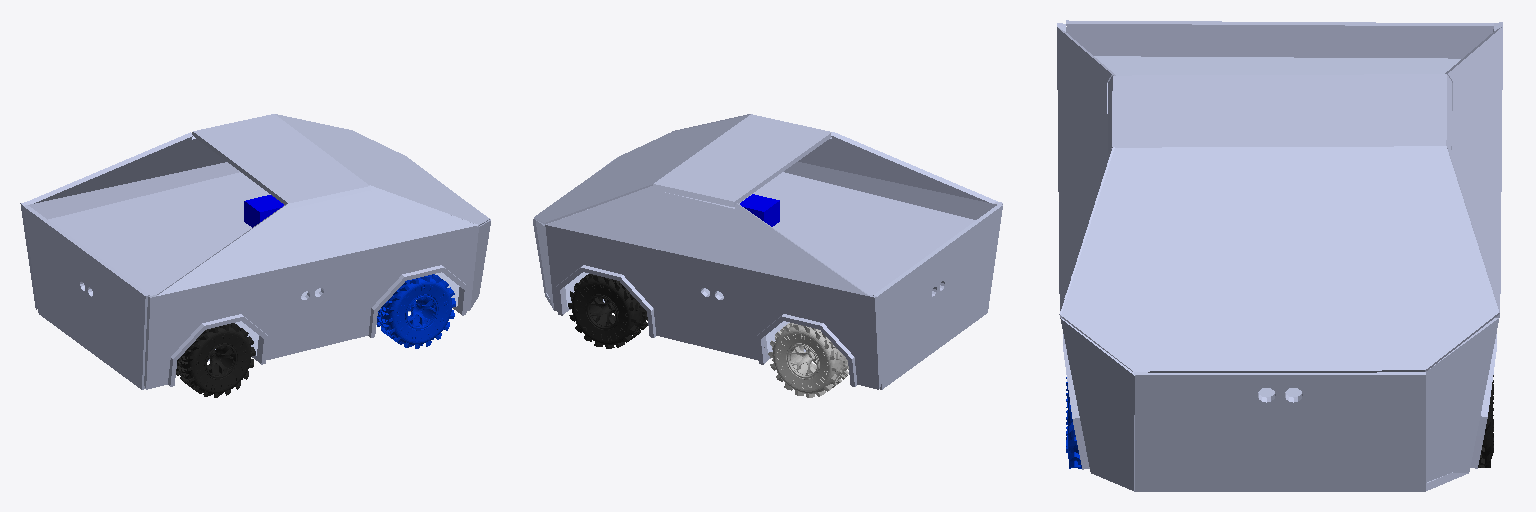
robot.urdf — cyber_robt:
<?xml version="1.0" ?>

<robot name="cyber_robt">
  <link name="base_link">
    <inertial>
      <origin rpy="0 0 0" xyz="-0.0091611 0.00059417 0.098166"/>
      <mass value="4"/>
      <inertia ixx="0.052616" ixy="0.00012866" ixz="0.00087061" iyy="0.15378" iyz="6.3384E-05" izz="0.19568"/>
    </inertial>
    <visual>
      <origin rpy="0 0 0" xyz="0 0 0"/>
      <geometry>
        <mesh filename="package://cyber_robt/meshes/base_link.STL"/>
      </geometry>
      <material name="">
        <color rgba="0.79216 0.81961 0.93333 1"/>
      </material>
    </visual>
    <collision>
      <origin rpy="0 0 0" xyz="0 0 0"/>
      <geometry>
        <!-- <mesh filename="package://cyber_robt/meshes/base_link.STL"/> -->
        <geometry>
          <box size="0.1 0.1 0.1"/>
        </geometry>
      </geometry>
    </collision>
  </link>
  <link name="W_B_L">
    <inertial>
      <origin rpy="0 0 0" xyz="1.04621901142465E-08 7.33407984343515E-09 0.00451444303412896"/>
      <mass value="0.110835075707755"/>
      <inertia ixx="0.000173950330336761" ixy="-9.00569003291215E-11" ixz="3.09004583221448E-11" iyy="0.000173950344543359" iyz="1.81423573220387E-11" izz="0.000277761447470617"/>
    </inertial>
    <visual>
      <origin rpy="0 0 0" xyz="0 0 0"/>
      <geometry>
        <mesh filename="package://cyber_robt/meshes/W_B_L.STL"/>
      </geometry>
      <material name="">
        <color rgba="0.752941176470588 0.752941176470588 0.752941176470588 1"/>
      </material>
    </visual>
    <collision>
      <origin rpy="0 0 0" xyz="0 0 0"/>
      <geometry>
        <!-- <mesh filename="package://cyber_robt/meshes/W_B_L.STL"/> -->
        <box size="0.05 0.05 0.05"/>
      </geometry>
    </collision>
  </link>
  <joint name="W_B_L_joint" type="continuous">
    <origin rpy="-1.5708 0 0" xyz="-0.19374 0.16464 0.01975"/>
    <parent link="base_link"/>
    <child link="W_B_L"/>
    <axis xyz="0 0 1"/>
    <limit effort="10" velocity="10"/>
    <dynamics damping="0.1" friction="0.1"/>
    <mimic joint="W_F_L_joint"/>
  </joint>
  <link name="W_F_L">
    <inertial>
      <origin rpy="0 0 0" xyz="1.04755673718815E-08 7.32929028579576E-09 0.0045144429988957"/>
      <mass value="0.110835075033681"/>
      <inertia ixx="0.000173950330312339" ixy="-9.00559008468017E-11" ixz="3.08963073222672E-11" iyy="0.000173950344524454" iyz="1.8142724600611E-11" izz="0.000277761447439209"/>
    </inertial>
    <visual>
      <origin rpy="0 0 0" xyz="0 0 0"/>
      <geometry>
        <mesh filename="package://cyber_robt/meshes/W_F_L.STL"/>
      </geometry>
      <material name="">
        <color rgba="0.164705882352941 0.164705882352941 0.164705882352941 1"/>
      </material>
    </visual>
    <collision>
      <origin rpy="0 0 0" xyz="0 0 0"/>
      <geometry>
        <box size="0.05 0.05 0.05"/>
        <!-- <mesh filename="package://cyber_robt/meshes/W_F_L.STL"/> -->
      </geometry>
    </collision>
  </link>
  <joint name="W_F_L_joint" type="continuous">
    <origin rpy="-1.5708 0 0" xyz="0.17551 0.16464 0.01975"/>
    <parent link="base_link"/>
    <child link="W_F_L"/>
    <axis xyz="0 0 1"/>
    <limit effort="10" velocity="10"/>
    <dynamics damping="0.1" friction="0.1"/>
  </joint>
  <link name="W_B_R">
    <inertial>
      <origin rpy="0 0 0" xyz="-1.04530648581402E-08 7.33744742742459E-09 -0.00451444301990683"/>
      <mass value="0.11083507549492"/>
      <inertia ixx="0.000173950330329626" ixy="9.00577592178687E-11" ixz="3.09042715809237E-11" iyy="0.000173950344535046" iyz="-1.81402735629844E-11" izz="0.000277761447462463"/>
    </inertial>
    <visual>
      <origin rpy="0 0 0" xyz="0 0 0"/>
      <geometry>
        <mesh filename="package://cyber_robt/meshes/W_B_R.STL"/>
      </geometry>
      <material name="">
        <color rgba="0.164705882352941 0.164705882352941 0.164705882352941 1"/>
      </material>
    </visual>
    <collision>
      <origin rpy="0 0 0" xyz="0 0 0"/>
      <geometry>
        <box size="0.05 0.05 0.05"/>
        <!-- <mesh filename="package://cyber_robt/meshes/W_B_R.STL"/> -->
      </geometry>
    </collision>
  </link>
  <joint name="W_B_R_joint" type="continuous">
    <origin rpy="-1.5708 0 0" xyz="-0.19374 -0.16473 0.01975"/>
    <parent link="base_link"/>
    <child link="W_B_R"/>
    <axis xyz="0 0 -1"/>
    <limit effort="10" velocity="10"/>
    <dynamics damping="0.1" friction="0.1"/>
    <mimic joint="W_F_R_joint"/>
  </joint>
  <link name="W_F_R">
    <inertial>
      <origin rpy="0 0 0" xyz="-1.04612485063438E-08 7.3332188099684E-09 -0.00451444303336418"/>
      <mass value="0.110835075714497"/>
      <inertia ixx="0.000173950330336794" ixy="9.00569289950247E-11" ixz="3.09003713566558E-11" iyy="0.000173950344543733" iyz="-1.81423558399572E-11" izz="0.000277761447470974"/>
    </inertial>
    <visual>
      <origin rpy="0 0 0" xyz="0 0 0"/>
      <geometry>
        <mesh filename="package://cyber_robt/meshes/W_F_R.STL"/>
      </geometry>
      <material name="">
        <color rgba="0.00784313725490196 0.23921568627451 0.823529411764706 1"/>
      </material>
    </visual>
    <collision>
      <origin rpy="0 0 0" xyz="0 0 0"/>
      <geometry> 
        <box size="0.05 0.05 0.05"/>
      
        <!-- <mesh filename="package://cyber_robt/meshes/W_F_R.STL"/> -->
      </geometry>
    </collision>
  </link>
  <joint name="W_F_R_joint" type="continuous">
    <origin rpy="-1.5708 0 0" xyz="0.17626 -0.16473 0.01975"/>
    <parent link="base_link"/>
    <child link="W_F_R"/>
    <axis xyz="0 0 -1"/>
    <limit effort="10" velocity="10"/>
    <dynamics damping="0.1" friction="0.1"/>
  </joint>
  <link name="Lidar">
    <inertial>
      <origin rpy="0 0 0" xyz="-0.0125525443278058 0.0352042399925181 1.38374507929195E-05"/>
      <mass value="0.0941041922779478"/>
      <inertia ixx="2.80065165934002E-05" ixy="-1.34915585630204E-06" ixz="-9.66826757177557E-07" iyy="6.943287134712E-05" iyz="1.57761616273888E-07" izz="4.42980194300437E-05"/>
    </inertial>
    <visual>
      <origin rpy="-1.57008 0 0" xyz="0 0 0"/>
      <geometry>
        <mesh filename="package://cyber_robt/meshes/Lidar.STL"/>
      </geometry>
      <material name="">
        <color rgba="0.752941176470588 0.752941176470588 0.752941176470588 1"/>
      </material>
    </visual>
    <collision>
      <origin rpy="-1.57008 0 0" xyz="0 0 0"/>
      <geometry>
        <box size="0.05 0.05 0.05"/>
        <!-- <mesh filename="package://cyber_robt/meshes/Lidar.STL"/> -->
      </geometry>
    </collision>
  </link>
  <joint name="Lidar_joint" type="fixed">
    <origin rpy="0 0 0" xyz="0.069913 -0.0039993 0.30878"/>
    <parent link="base_link"/>
    <child link="Lidar"/>
    <axis xyz="0.024581 -0.99967 -0.0069583"/>
  </joint>
  <link name="imu_link">
    <visual>
      <geometry>
        <box size="0.05 0.05 0.05"/>
      </geometry>
      <material name="blue">
        <color rgba="0 0 1 1"/>
      </material>
    </visual>
    <inertial>
      <mass value="0.01"/>
      <inertia ixx="0.00001" ixy="0.0" ixz="0.0" iyy="0.00001" iyz="0.0" izz="0.00001"/>
    </inertial>
  </link>
  <joint name="imu_joint" type="fixed">
    <parent link="base_link"/>
    <child link="imu_link"/>
    <origin rpy="0 0 0" xyz="0.0 0.0 0.15"/>
  </joint>
  <!-- <link
    name="U_L">
    <inertial>
      <origin
        xyz="-2.90104473364416E-05 1.03285550460686E-05 0.0015459169200831"
        rpy="0 0 0" />
      <mass
        value="0.0027914292843105" />
      <inertia
        ixx="9.5216483963157E-08"
        ixy="-1.74890226086194E-12"
        ixz="-9.87352819860933E-13"
        iyy="4.69037454882235E-07"
        iyz="-3.21316644683644E-11"
        izz="5.0499248445848E-07" />
    </inertial>
    <visual>
      <origin
        xyz="0 0 0"
        rpy="0 0 0" />
      <geometry>
        <mesh
          filename="package://cyber_robt/meshes/U_L.STL" />
      </geometry>
      <material
        name="">
        <color
          rgba="0.752941176470588 0.752941176470588 0.752941176470588 1" />
      </material>
    </visual>
    <collision>
      <origin
        xyz="0 0 0"
        rpy="0 0 0" />
      <geometry>
        <mesh
          filename="package://cyber_robt/meshes/U_L.STL" />
      </geometry>
    </collision>
  </link>
  <joint
    name="U_L_joint"
    type="fixed">
    <origin
      xyz="-0.027241 0.18412 0.1001"
      rpy="-1.5708 0 0" />
    <parent
      link="base_link" />
    <child
      link="U_L" />
    <axis
      xyz="0 0 0" />
  </joint>
  <link
    name="U_R">
    <inertial>
      <origin
        xyz="2.90104474093278E-05 3.11207215475395E-06 -0.00154594829482541"
        rpy="0 0 0" />
      <mass
        value="0.00279142928883128" />
      <inertia
        ixx="9.52164840205335E-08"
        ixy="1.74427793914189E-12"
        ixz="-9.95506738253083E-13"
        iyy="4.69038538712674E-07"
        iyz="1.99967094814099E-10"
        izz="5.04991401349245E-07" />
    </inertial>
    <visual>
      <origin
        xyz="0 0 0"
        rpy="0 0 0" />
      <geometry>
        <mesh
          filename="package://cyber_robt/meshes/U_R.STL" />
      </geometry>
      <material
        name="">
        <color
          rgba="0.752941176470588 0.752941176470588 0.752941176470588 1" />
      </material>
    </visual>
    <collision>
      <origin
        xyz="0 0 0"
        rpy="0 0 0" />
      <geometry>
        <mesh
          filename="package://cyber_robt/meshes/U_R.STL" />
      </geometry>
    </collision>
  </link>
  <joint
    name="U_R_joint"
    type="fixed">
    <origin
      xyz="-0.025809 -0.18431 0.10044"
      rpy="-1.5708 0 0" />
    <parent
      link="base_link" />
    <child
      link="U_R" />
    <axis
      xyz="0 0 0" />
  </joint>
  <link
    name="U_B">
    <inertial>
      <origin
        xyz="-0.00154517952788757 5.37308393633307E-05 -1.84585517455371E-05"
        rpy="0 0 0" />
      <mass
        value="0.00279142929729524" />
      <inertia
        ixx="5.0494597810526E-07"
        ixy="-9.90004835368537E-10"
        ixz="-2.84968225347825E-09"
        iyy="4.69058298264594E-07"
        iyz="-1.47154962142072E-09"
        izz="9.52421505751128E-08" />
    </inertial>
    <visual>
      <origin
        xyz="0 0 0"
        rpy="0 0 0" />
      <geometry>
        <mesh
          filename="package://cyber_robt/meshes/U_B.STL" />
      </geometry>
      <material
        name="">
        <color
          rgba="0.752941176470588 0.752941176470588 0.752941176470588 1" />
      </material>
    </visual>
    <collision>
      <origin
        xyz="0 0 0"
        rpy="0 0 0" />
      <geometry>
        <mesh
          filename="package://cyber_robt/meshes/U_B.STL" />
      </geometry>
    </collision>
  </link>
  <joint
    name="U_B_joint"
    type="fixed">
    <origin
      xyz="-0.3221 -0.0003659 0.10177"
      rpy="-1.5708 0 0" />
    <parent
      link="base_link" />
    <child
      link="U_B" />
    <axis
      xyz="0 0 0" />
  </joint>
  <link
    name="U_F">
    <inertial>
      <origin
        xyz="0 0 0"
        rpy="0 0 0" />
      <mass
        value="0" />
      <inertia
        ixx="0"
        ixy="0"
        ixz="0"
        iyy="0"
        iyz="0"
        izz="0" />
    </inertial>
    <visual>
      <origin
        xyz="0 0 0"
        rpy="0 0 0" />
      <geometry>
        <mesh
          filename="package://cyber_robt/meshes/U_F.STL" />
      </geometry>
      <material
        name="">
        <color
          rgba="1 1 1 1" />
      </material>
    </visual>
    <collision>
      <origin
        xyz="0 0 0"
        rpy="0 0 0" />
      <geometry>
        <mesh
          filename="package://cyber_robt/meshes/U_F.STL" />
      </geometry>
    </collision>
  </link>
  <joint
    name="U_F_joint"
    type="fixed">
    <origin
      xyz="0.324153896515543 -8.10516439302966E-05 0.100420853717989"
      rpy="-1.5707963267949 0 0" />
    <parent
      link="base_link" />
    <child
      link="U_F" />
    <axis
      xyz="0 0 0" />
  </joint> -->
  <!-- Include plugin sets -->
  <!-- <plugin name="ignition::gazebo::systems::JointStatePublisher"
        filename="ignition-gazebo-joint-state-publisher-system"/> 
-->
  <!--   <plugin
            filename="gz-sim-physics-system"
            name="gz::sim::systems::Physics">
        </plugin>-->
  <!-- <plugin
        filename="gz-sim-scene-broadcaster-system"
        name="gz::sim::systems::SceneBroadcaster">
    </plugin> 

    <plugin filename="gz-sim-joint-state-publisher-system" name="gz::sim::systems::JointStatePublisher">
        <topic>joint_states</topic>
        <joint_name>W_F_L_joint</joint_name>
        <joint_name>W_F_R_joint</joint_name>
    </plugin> -->
  <gazebo reference="Lidar">
    <sensor name="gpu_lidar" type="gpu_lidar">
      <topic>/lidar</topic>
      <frame_id>Lidar</frame_id>
      <update_rate>10</update_rate>
       <plugin
            filename="gz-sim-sensors-system"
            name="gz::sim::systems::Sensors">
            <render_engine>ogre2</render_engine>
          </plugin> 
      <ray>
        <scan>
          <horizontal>
            <samples>640</samples>
            <resolution>1</resolution>
            <min_angle>-2.396263</min_angle>
            <max_angle>2.396263</max_angle>
          </horizontal>
          <vertical>
            <samples>1</samples>
            <resolution>0.01</resolution>
            <min_angle>0</min_angle>
            <max_angle>0</max_angle>
          </vertical>
        </scan>
        <range>
          <min>0.2</min>
          <max>10.0</max>
          <resolution>0.01</resolution>
        </range>
      </ray>
      <always_on>1</always_on>
      <visualize>true</visualize>
    </sensor>
  </gazebo>
  <!-- <xacro:unless value="$(arg use_ignition)">
    <xacro:include filename="$(find cyber_robt)/urdf/classic_plugins.xacro"/>
  </xacro:unless> -->
</robot>

--- Render facts (derived) ---
The picture shows the robot from 3 angles, left to right: view 1: azimuth 30°, elevation 25°; view 2: azimuth 150°, elevation 25°; view 3: azimuth 270°, elevation 25°; orthographic projection.
Model cyber_robt with 7 links and 6 joints (4 continuous, 2 fixed), rooted at base_link, posed every joint at zero.
Visible links, largest first — view 1: base_link, W_B_R, W_F_R, imu_link; view 2: base_link, W_B_L, W_F_L, imu_link; view 3: base_link, W_F_L, W_F_R.
Link boxes in pixels (x1,y1,x2,y2): base_link: [20, 114, 490, 389]; W_B_R: [176, 323, 255, 397]; W_F_R: [377, 274, 455, 348]; imu_link: [244, 195, 283, 227]; base_link: [533, 114, 1002, 389]; W_B_L: [768, 323, 848, 397]; W_F_L: [568, 274, 647, 348]; imu_link: [740, 194, 779, 226]; base_link: [1057, 20, 1502, 491]; W_F_L: [1478, 375, 1493, 467]; W_F_R: [1066, 377, 1081, 468].
Size in the robot's own frame: 0.6745 by 0.4128 by 0.2928 metres.
5 mesh visuals loaded from 6 distinct referenced files (5 binary STL); not drawn: 1 (reference not matched to a file when rendering).
